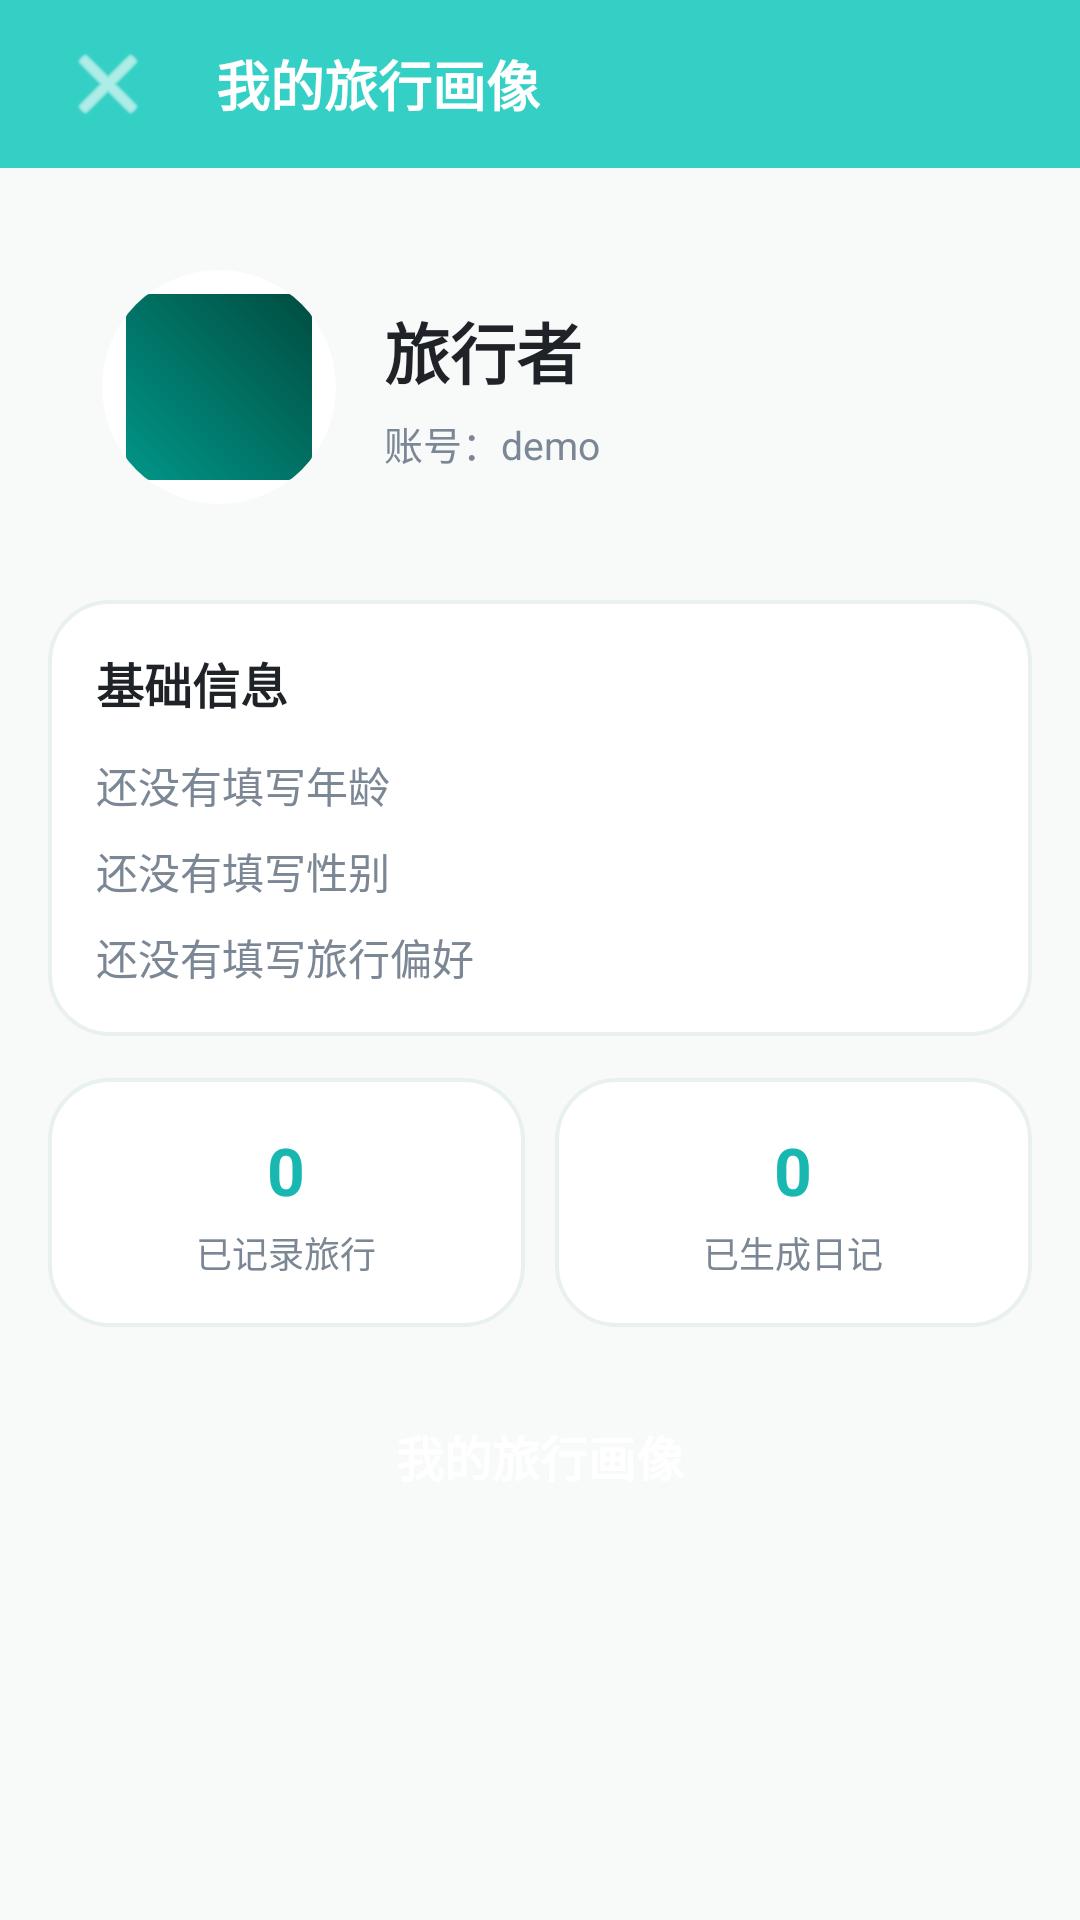

Where icons sit on this 1080px x 1920px app screen, as (x1, y1, x2, y2):
关闭: (78, 54, 138, 114)
